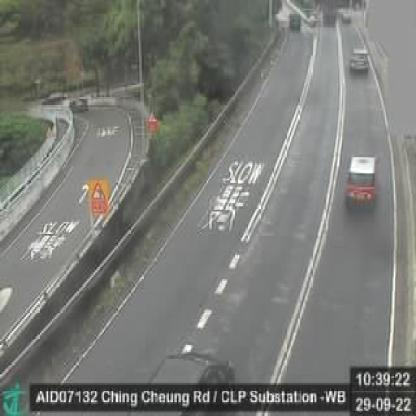Car: (124, 354, 245, 414), (342, 149, 381, 215), (348, 43, 370, 76), (284, 9, 306, 33), (66, 96, 92, 114)
